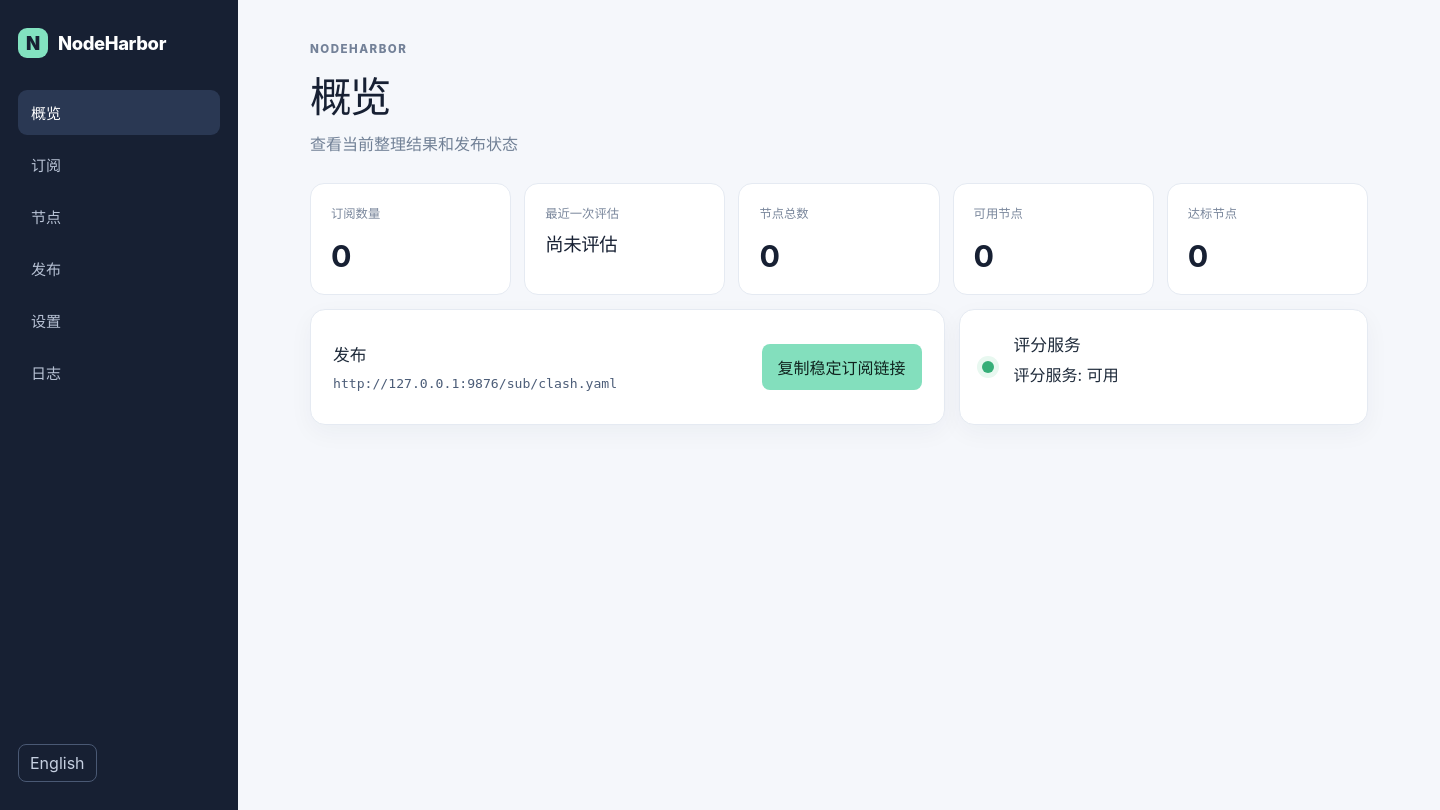
Test: Settings saves scoring and runtime diagnostics without exposing an evaluation schedule
Click the link "设置". click: (46, 322)
box: left=31, top=312, right=61, bottom=331
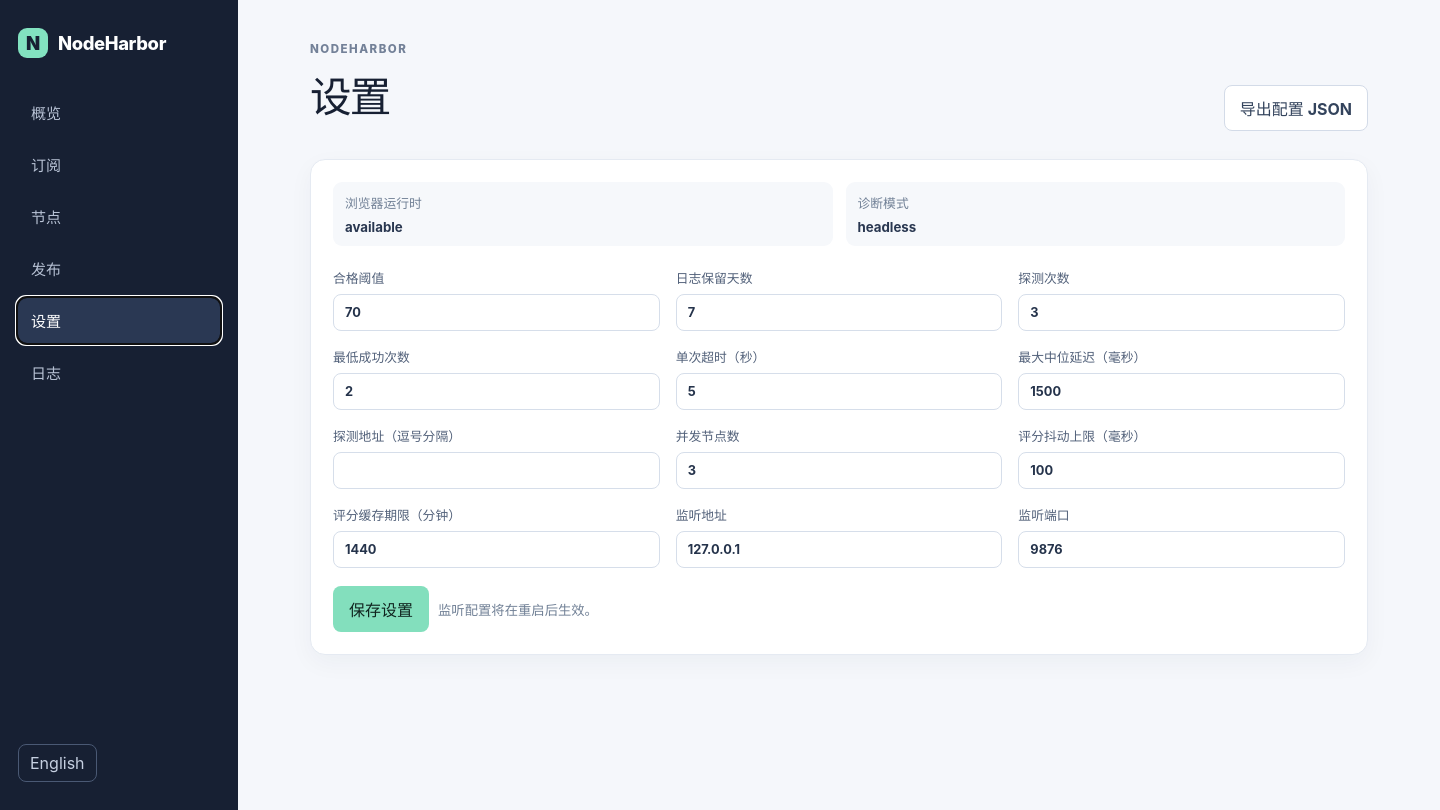
Now the text "浏览器运行时" is shown, box left=345, top=196, right=422, bottom=211
Now the text "headless" is shown, box left=858, top=219, right=916, bottom=235
Replace the text in the number field labelled "合格阈值" with "80". click: (496, 312)
box: left=333, top=294, right=660, bottom=331
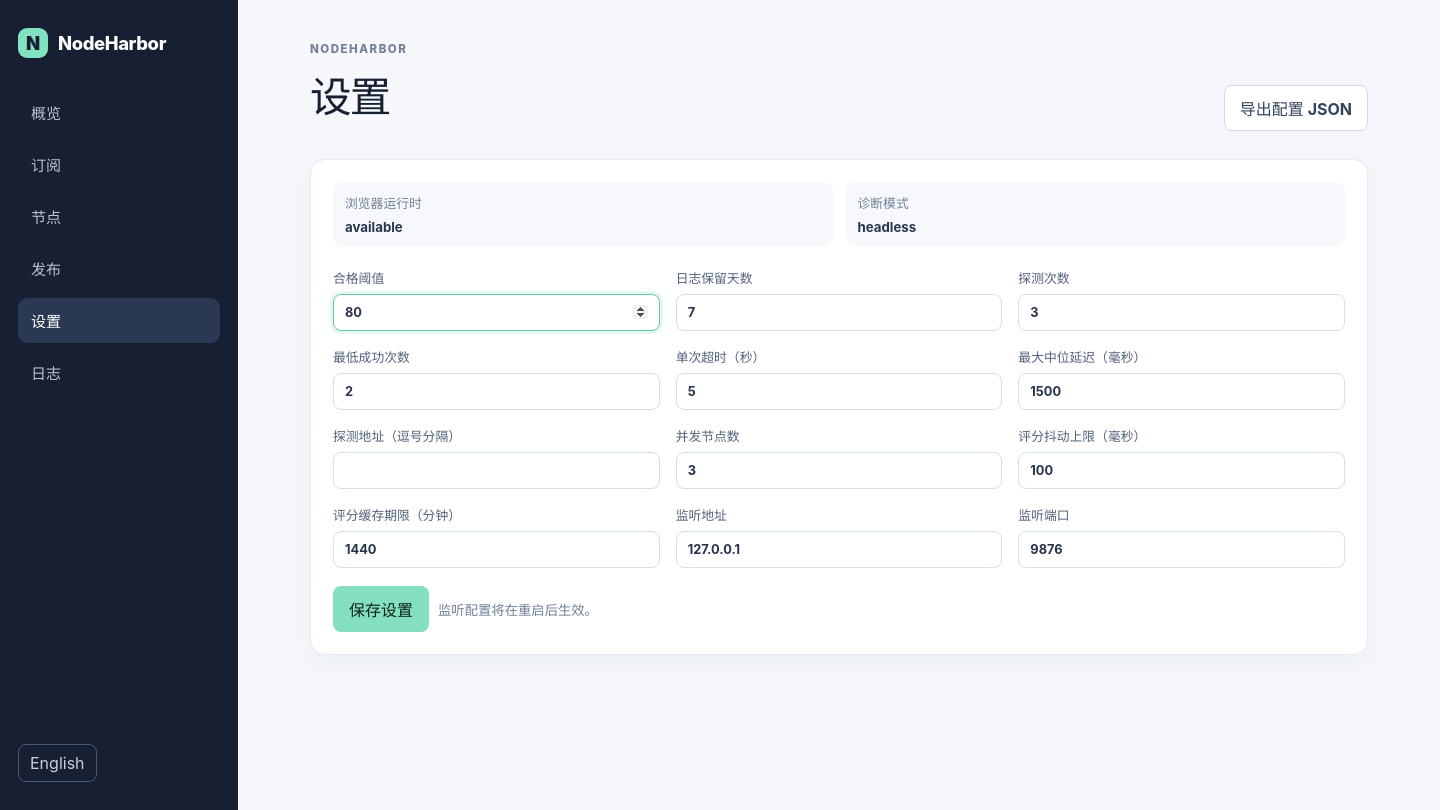
Click the button "保存设置". click: (381, 609)
box: left=333, top=586, right=429, bottom=632
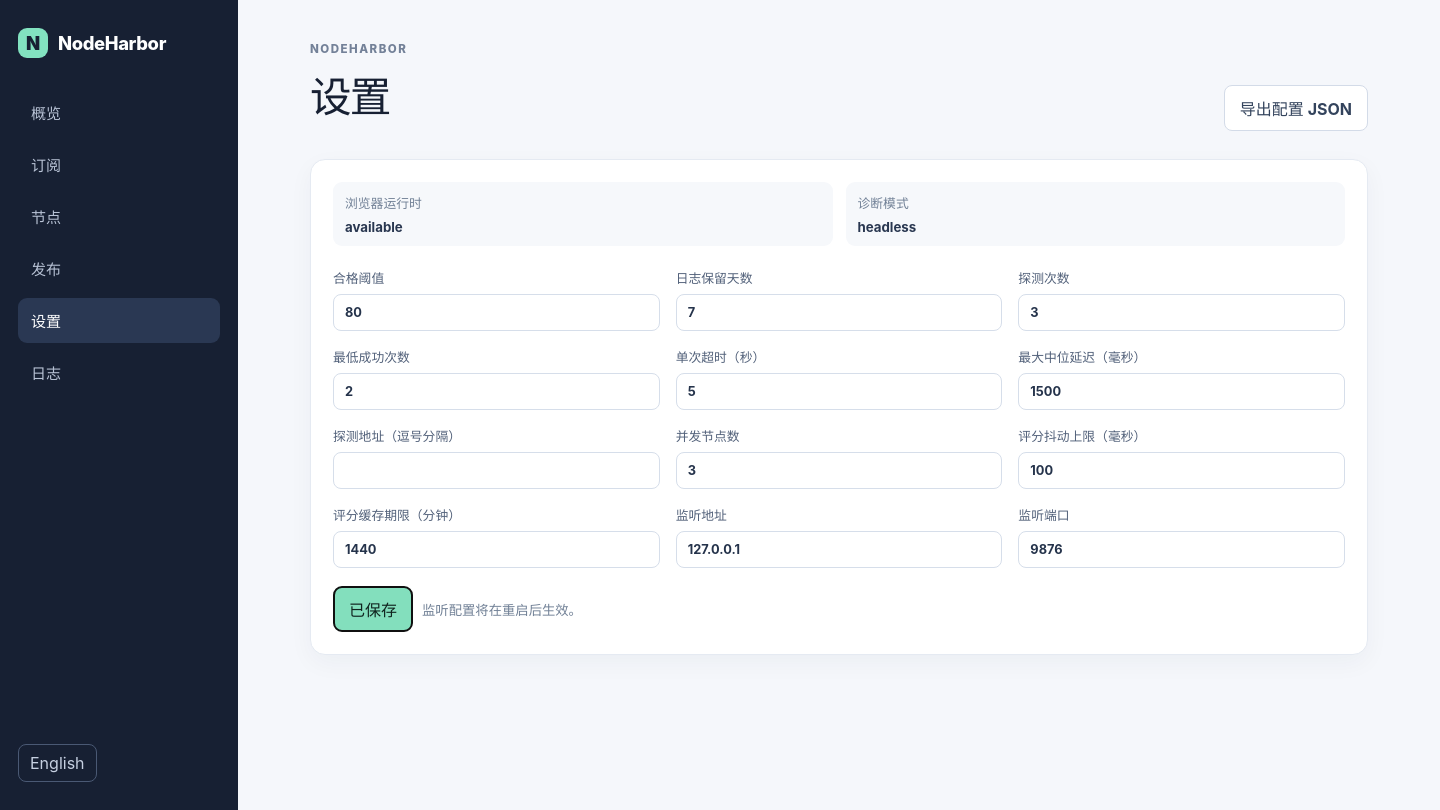
Now the button "已保存" is shown, box left=333, top=586, right=413, bottom=632
